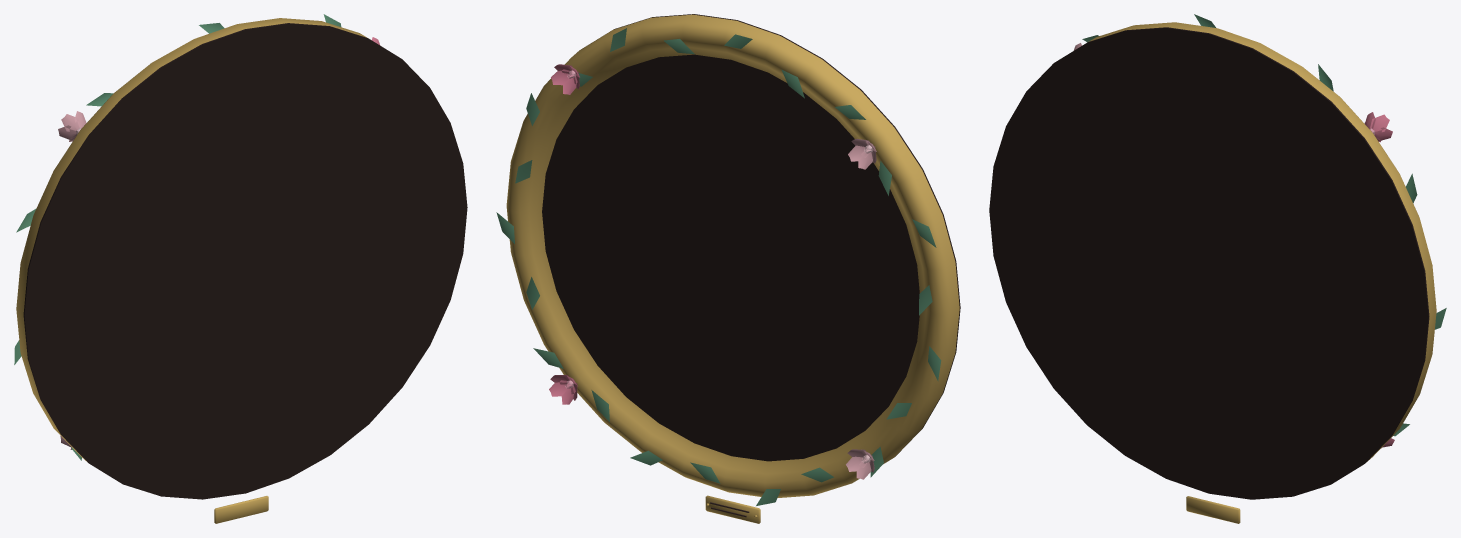
The model's file is tondo_garland_round.glb.
The picture shows the model from 3 angles, left to right: view 1: azimuth 30°, elevation 25°; view 2: azimuth 150°, elevation 25°; view 3: azimuth 330°, elevation 25°; orthographic projection.
Parts seen in each view (by area): view 1: tondo_garland_round; view 2: tondo_garland_round; view 3: tondo_garland_round.
Boxes of the visible parts, x1=… form: tondo_garland_round: x1=14, y1=14, x2=467, y2=523; tondo_garland_round: x1=496, y1=14, x2=960, y2=523; tondo_garland_round: x1=989, y1=14, x2=1446, y2=523.
Size of what is drawn, in the model's own units: 1.15 by 1.22 by 0.1126.
